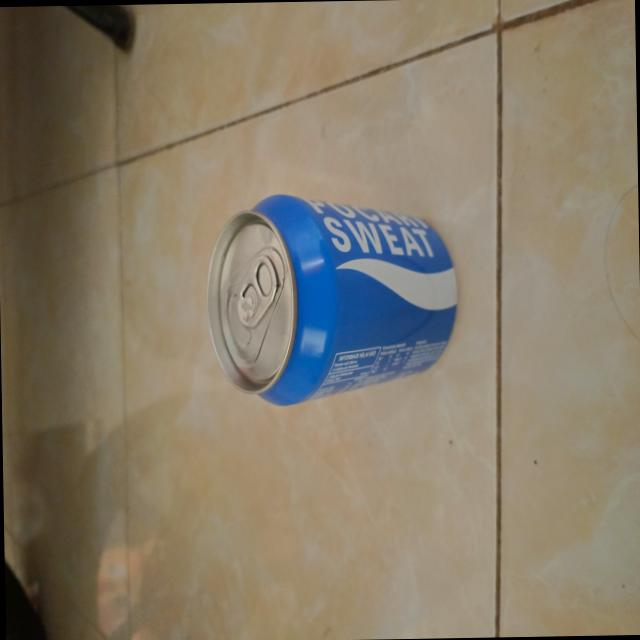pocari-sweat: (205, 188, 460, 404)
